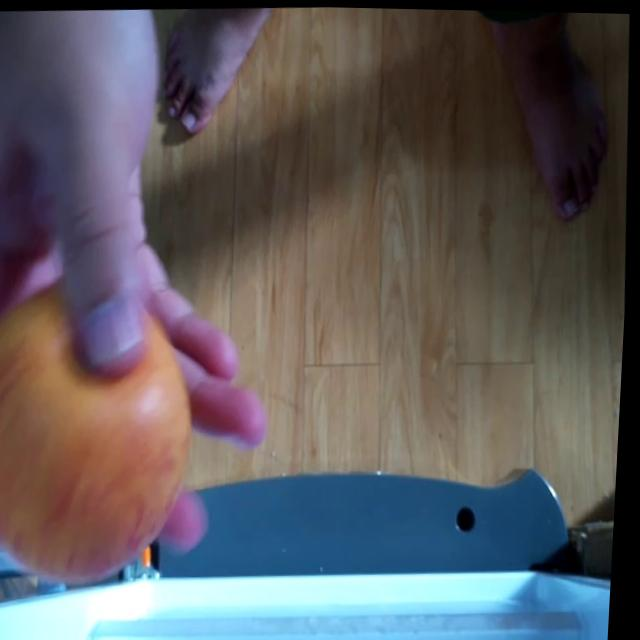apple: (0, 267, 206, 582)
